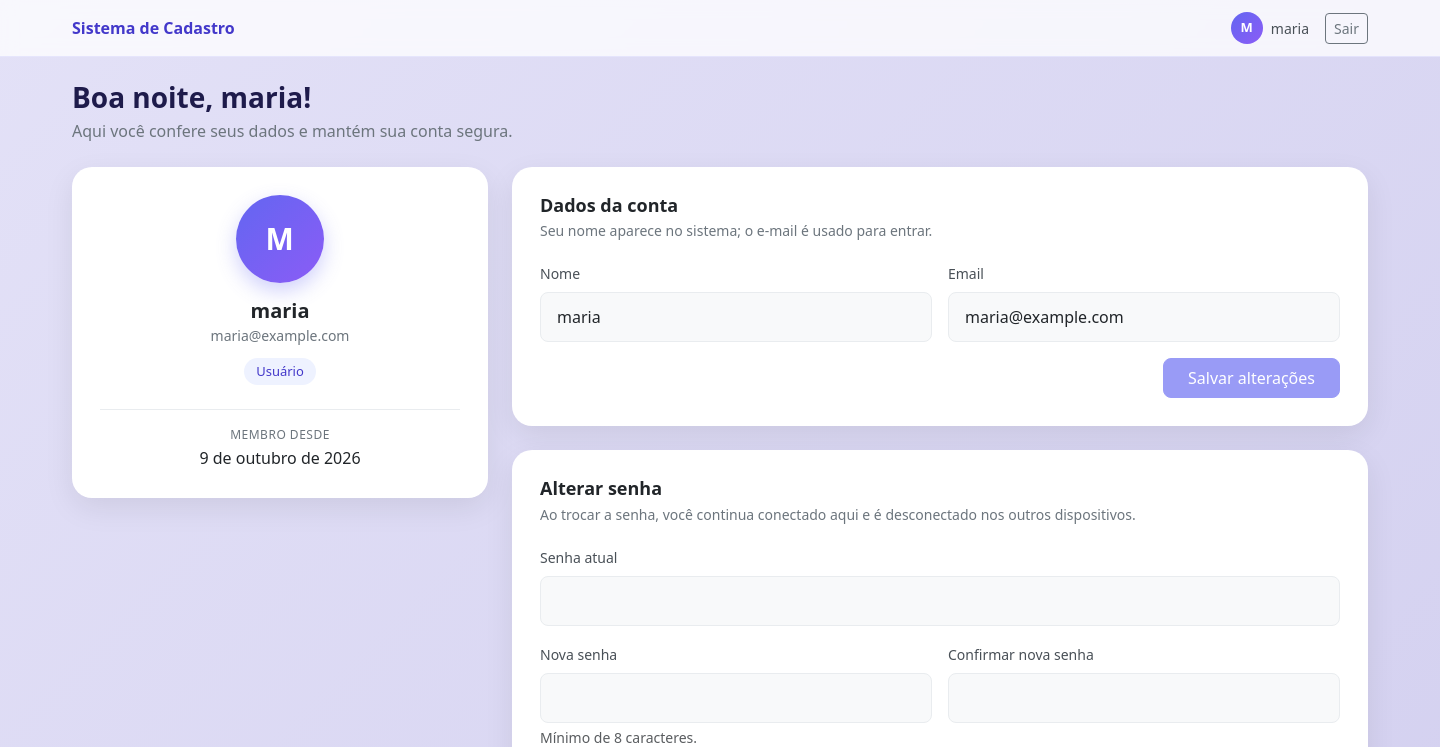
Test: home do usuário › salva os dados e atualiza cabeçalho e cartão
Expected: the element "Dados da conta" is shown, [512,167,1368,426]
Replace the text in the field labelled "Nome" with "Maria Souza" at (736, 317), box [540,292,932,342]
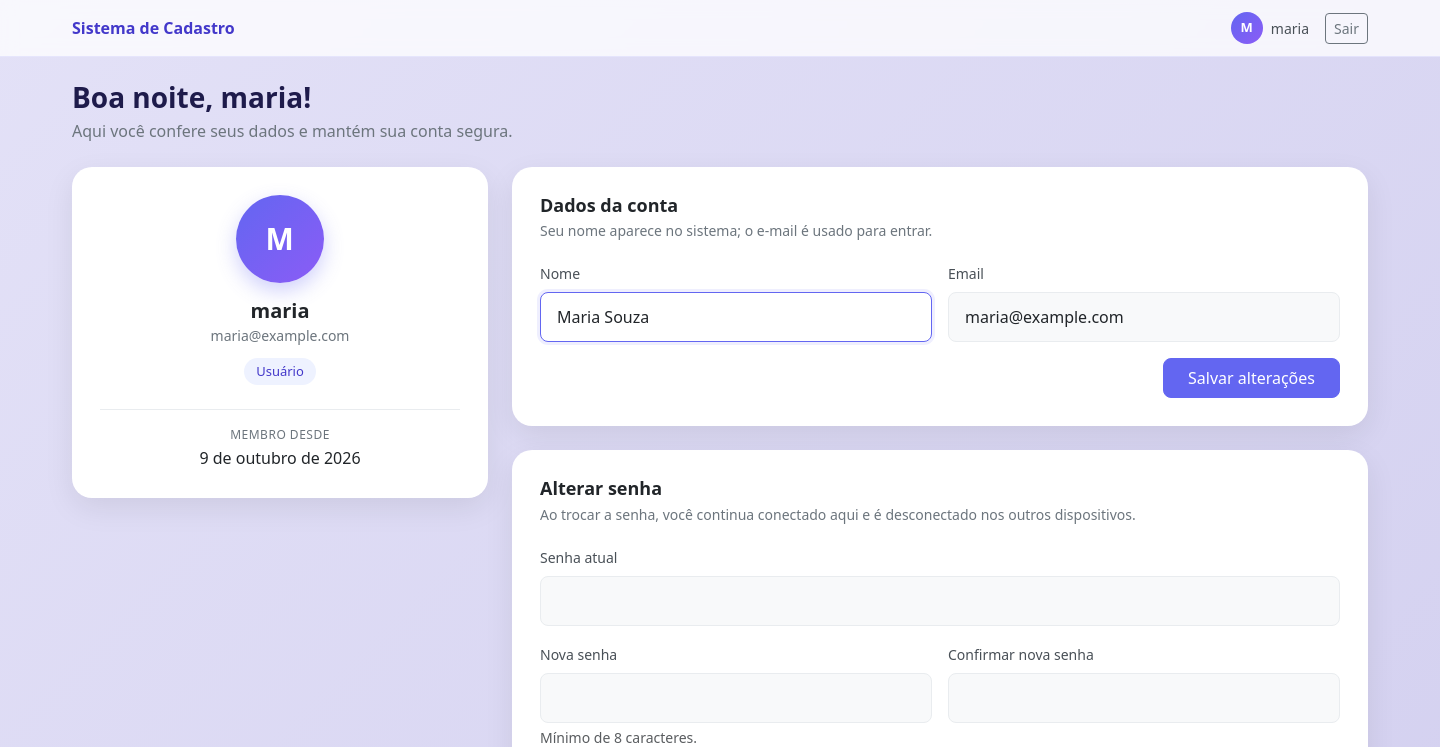
Click the button "Salvar alterações" at (1252, 378), box [1163,358,1340,398]
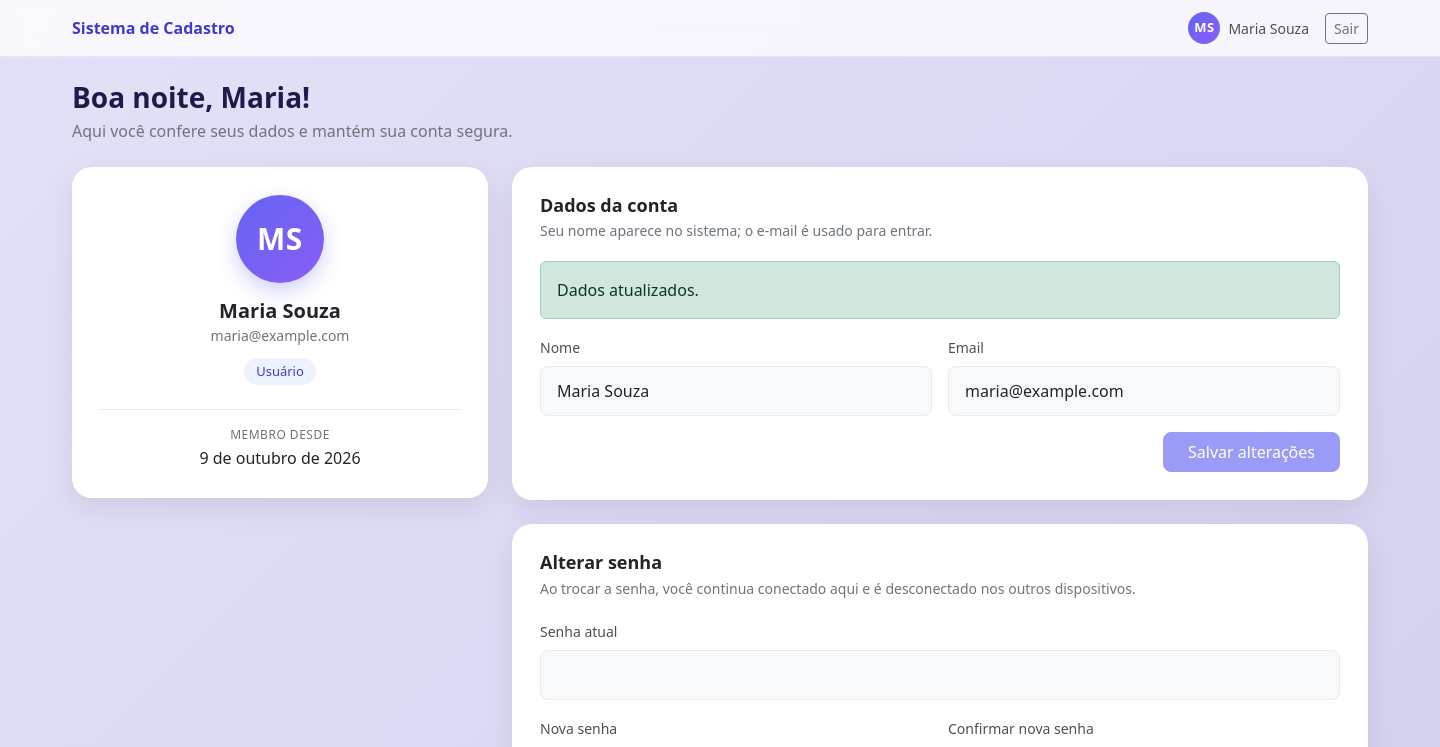
Expected: the heading "Boa noite, Maria!" is shown, [72,78,310,116]
Expected: the message reads "Dados atualizados.", [557,279,699,301]
Expected: the heading "Maria Souza" is shown, [219,297,341,324]
